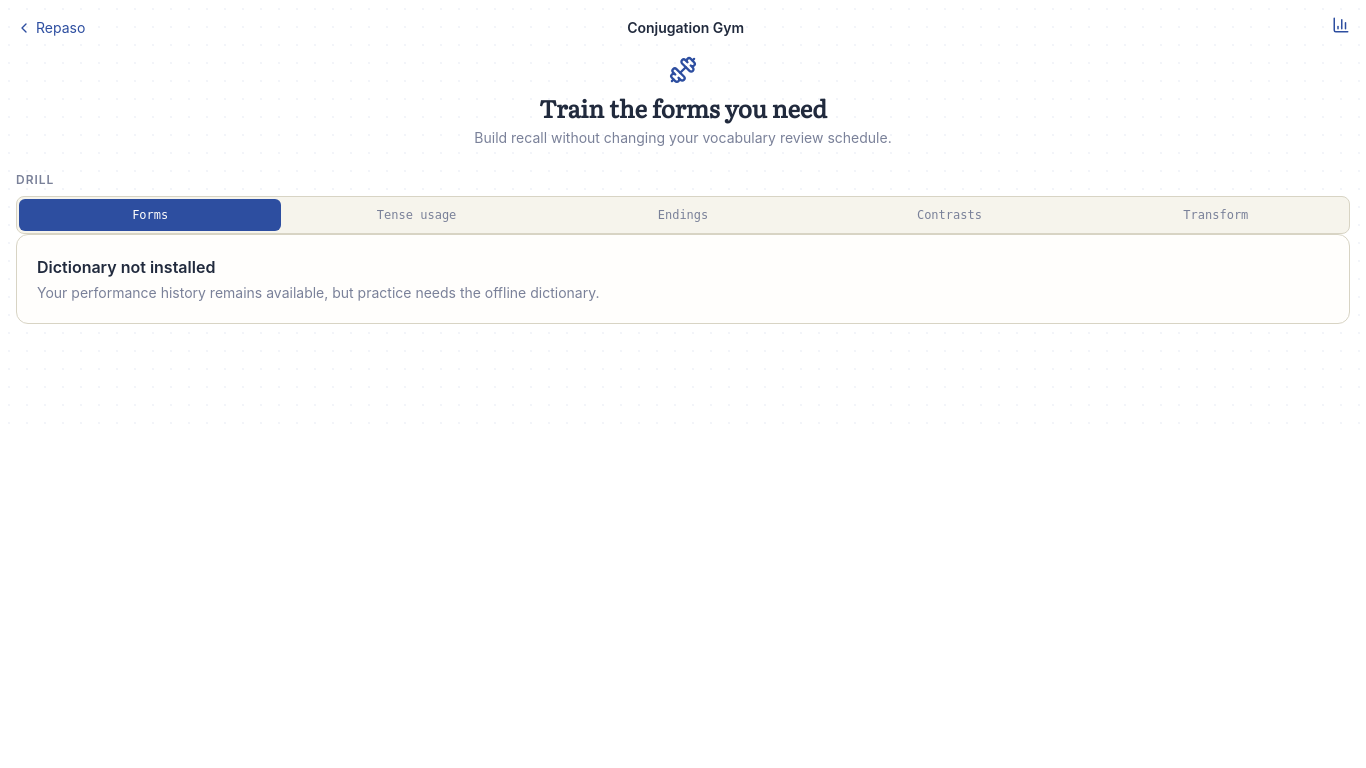
Test: Conjugation Gym setup › offers recognition lanes without a dictionary and hides form-only controls
Click the radio button labelled "Tense usage" at (417, 215), box [285,199,548,231]
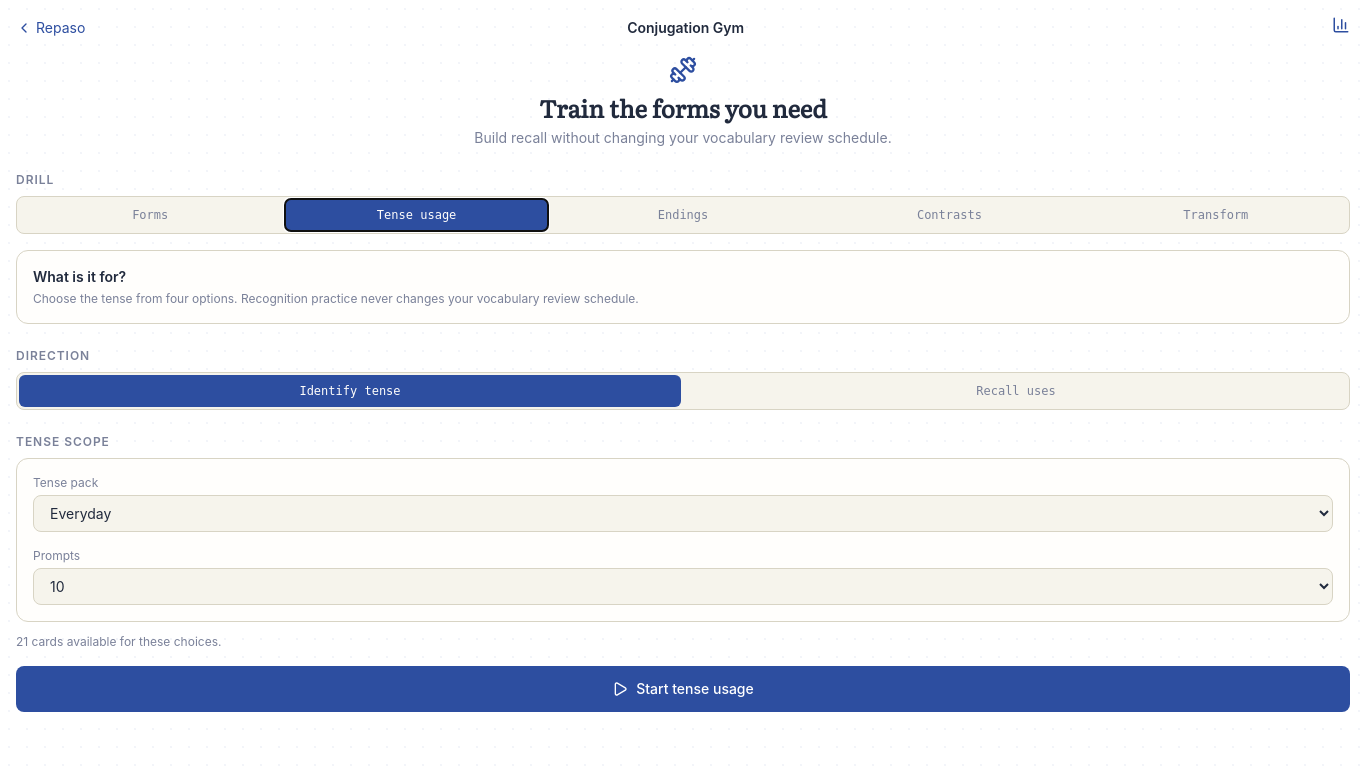
Expected: the text "What is it for?" is shown, [33,268,126,285]
Expected: the text "Dictionary not installed" is gone
Expected: the button "Start tense usage" is shown, [16,666,1350,712]
